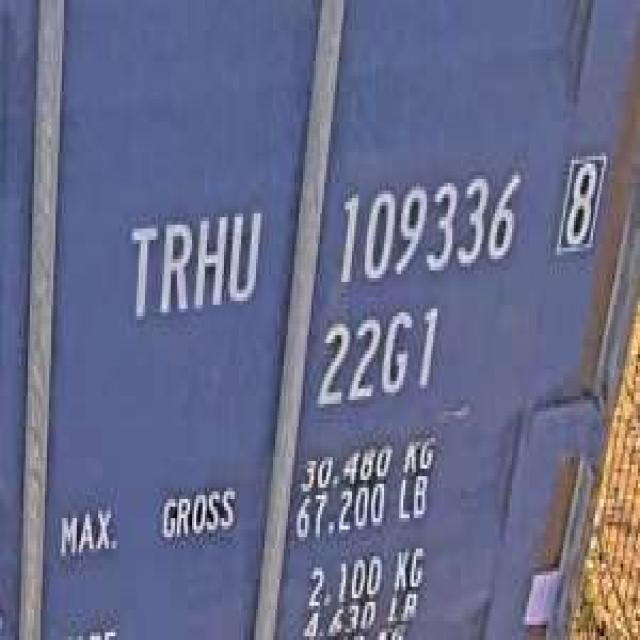dv: (553, 141, 608, 263)
owner: (120, 195, 264, 332)
serial: (330, 168, 524, 293)
size: (309, 301, 446, 411)
